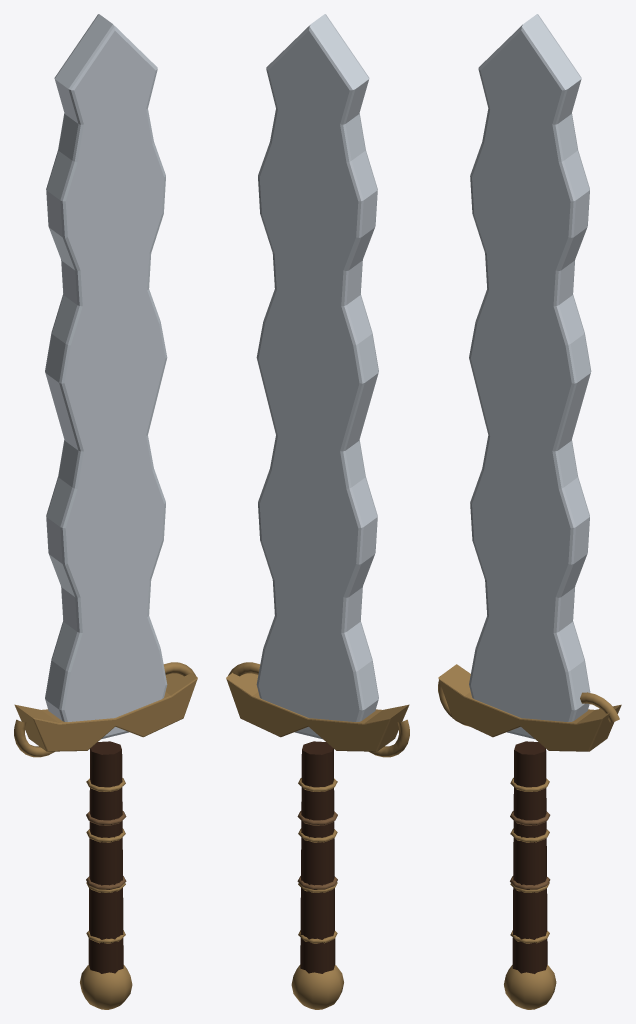
The model's file is greatsword_f3_1f12096f.glb.
The picture shows the model from 3 angles, left to right: view 1: azimuth 30°, elevation 25°; view 2: azimuth 150°, elevation 25°; view 3: azimuth 330°, elevation 25°; orthographic projection.
Visible parts, largest first — view 1: m0_ow80_, m19_ow80_, m17_ow80_, m20_ow80_; view 2: m0_ow80_, m19_ow80_, m17_ow80_, m20_ow80_; view 3: m0_ow80_, m19_ow80_, m17_ow80_, m20_ow80_.
Boxes of the visible parts, x1,y1,x2,y2 form: m0_ow80_: (45,14,167,739); m19_ow80_: (14,662,197,1009); m17_ow80_: (88,741,123,973); m20_ow80_: (86,811,126,889); m0_ow80_: (256,14,378,739); m19_ow80_: (226,662,409,1009); m17_ow80_: (300,741,335,973); m20_ow80_: (297,811,337,889); m0_ow80_: (469,14,591,739); m19_ow80_: (438,664,621,1009); m17_ow80_: (512,741,547,973); m20_ow80_: (510,811,550,889).
Bounding box in the file's own units: 0.6467 × 3.36 × 0.1552.
